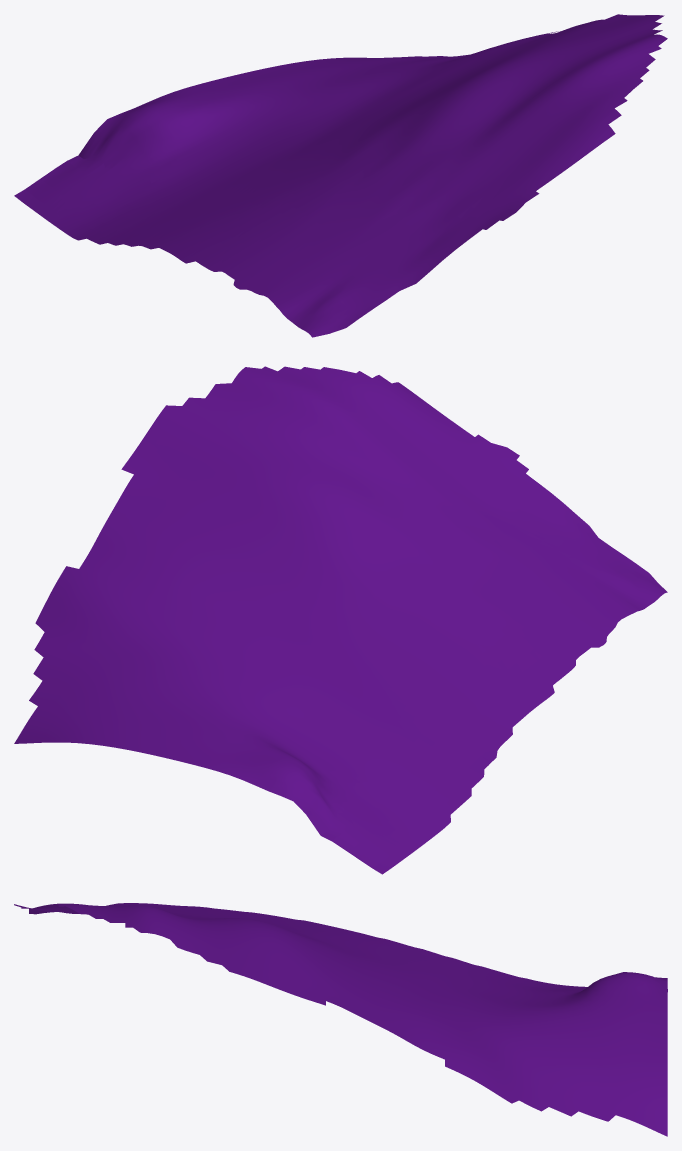
Rendered from trias.dae.
3 renders of one model, top to bottom at view 1: azimuth 30°, elevation 25°; view 2: azimuth 150°, elevation 25°; view 3: azimuth 270°, elevation 25°, orthographic. The views are drawn at different scales.
Parts seen in each view (by area): view 1: Trias; view 2: Trias; view 3: Trias.
Boxes of the visible parts, box(x1,y1,x2,y2) form: Trias: box(14, 14, 667, 337); Trias: box(14, 366, 667, 874); Trias: box(14, 903, 667, 1136).
Bounding box in the file's own units: 125 × 155 × 66.65.
